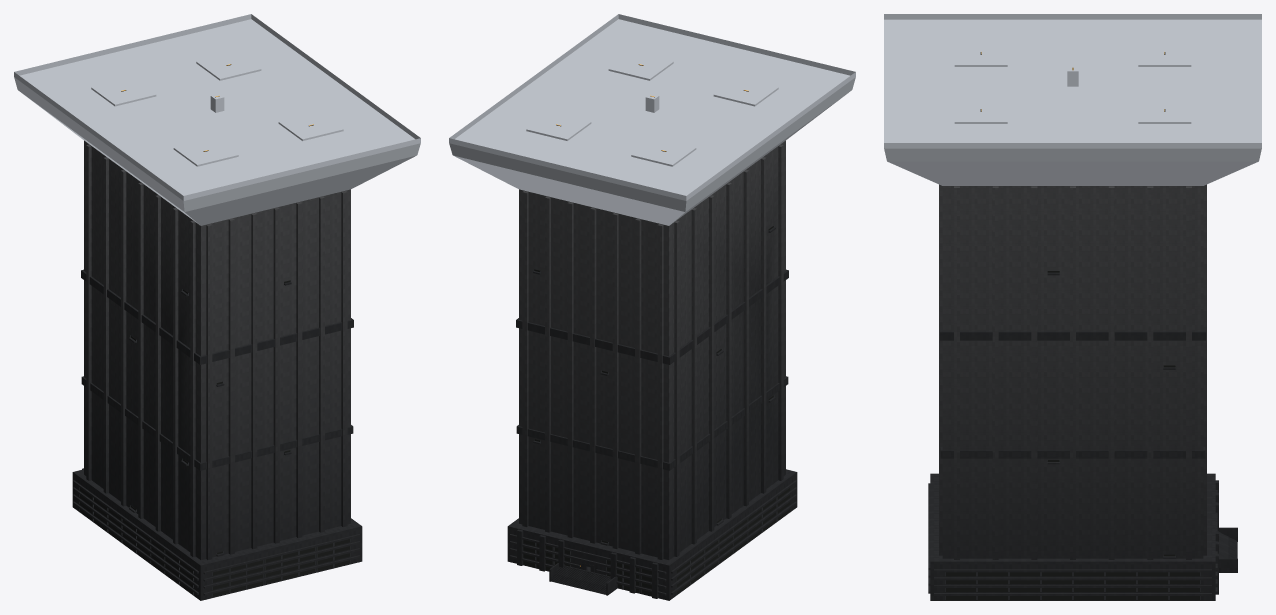
Rendered from lapd-high.glb.
The picture shows the model from 3 angles, left to right: view 1: azimuth 30°, elevation 25°; view 2: azimuth 150°, elevation 25°; view 3: azimuth 270°, elevation 25°; orthographic projection. The views are drawn at different scales.
Parts seen in each view (by area): view 1: solid-0, crown, glass-detail; view 2: solid-0, crown, glass-detail; view 3: solid-0, crown, glass-detail.
Boxes of the visible parts, left/top/right/bottom form: solid-0: left=72, top=140, right=362, bottom=600; crown: left=14, top=14, right=420, bottom=225; glass-detail: left=79, top=280, right=350, bottom=596; solid-0: left=507, top=140, right=797, bottom=600; crown: left=449, top=14, right=855, bottom=225; glass-detail: left=523, top=226, right=790, bottom=595; solid-0: left=928, top=184, right=1237, bottom=600; crown: left=884, top=14, right=1261, bottom=185; glass-detail: left=946, top=271, right=1199, bottom=599.
Bounding box in the file's own units: 126 × 223 × 156.
6 materials, 1 textured.
